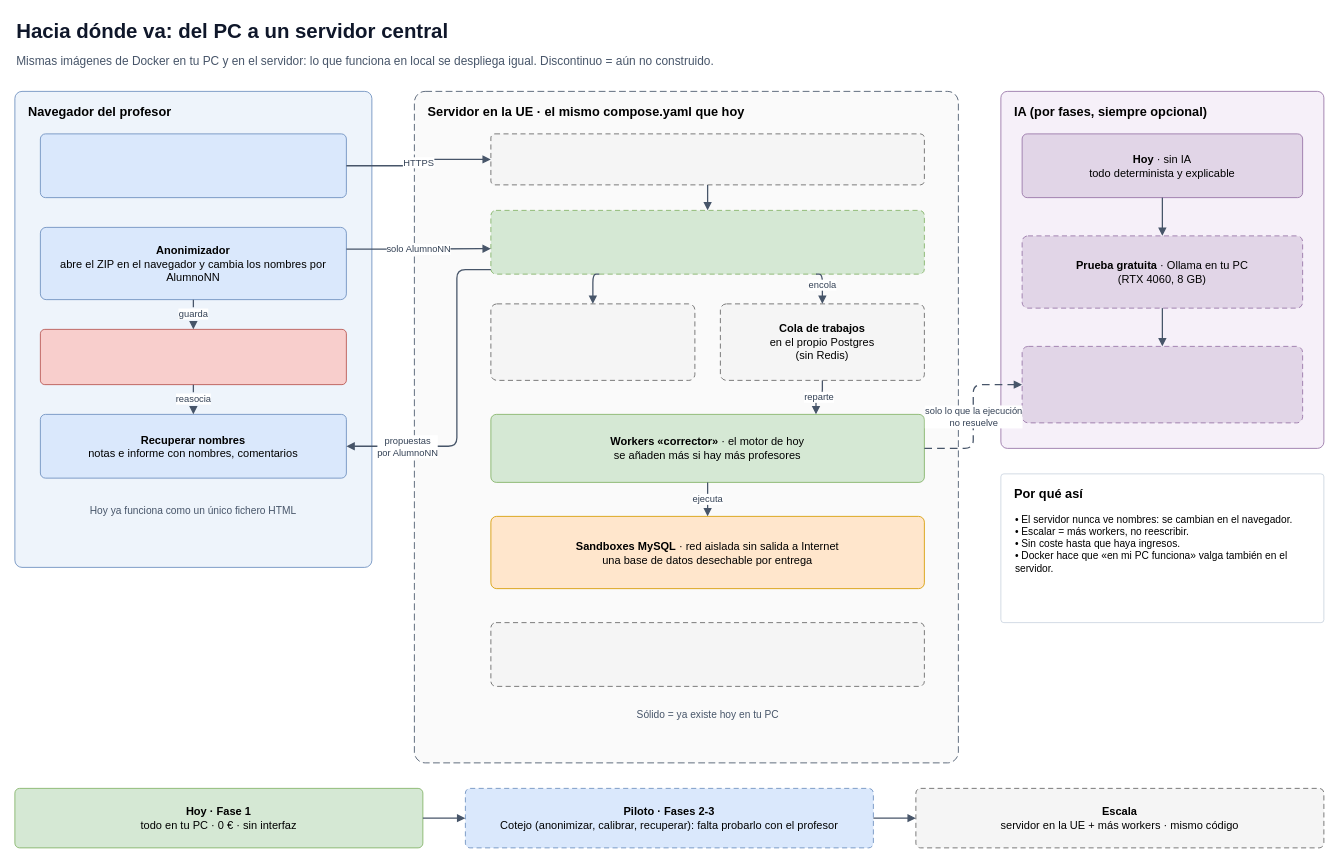
This 1339x863 diagram has some shape labels left out. The shapes that lost their labels are listed below. From the top down, each one's centre as x and y in pixels, then its label:
At (193,165): "Cotejo (React + Vite) hoy: anonimizar y recuperar nombres".
At (707,159): "Caddy · HTTPS automático y cabeceras de seguridad".
At (707,242): "API (FastAPI) · login del profesor, tareas, subida de entregas ya anonimizadas".
At (193,357): "Tabla «quién es quién» solo en su ordenador".
At (592,341): "Postgres profesores, tareas, rúbricas, log de auditoría sin nombres de alumnos".
At (1162,384): "Con ingresos · Claude en AWS Bedrock (UE) sin retención de datos".
At (707,654): "Almacén temporal cifrado · las entregas caducan (p. ej. a los 30 días)".
